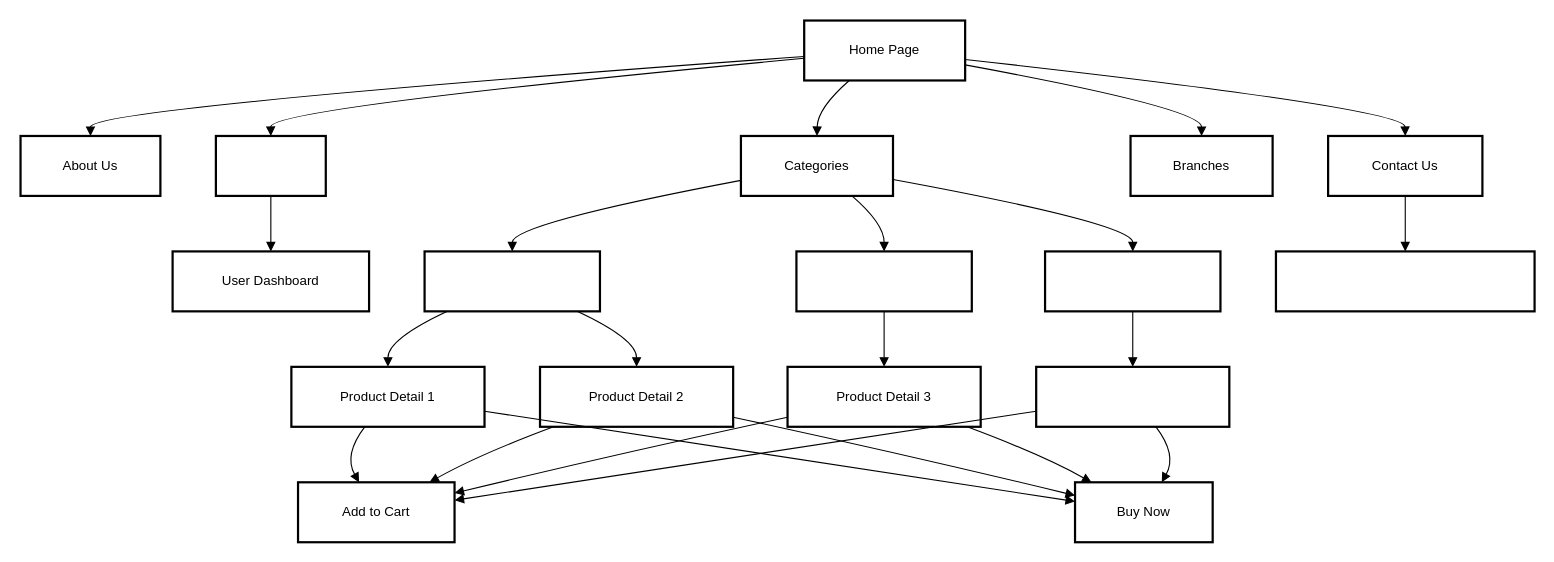
The diagram is 1554 pixels wide and 562 high, and some of its shapes have lost their labels. Each missing label, with the box of its shape:
Login: (214, 134, 326, 196)
Product Detail 4: (1035, 365, 1230, 427)
Product List 1: (423, 250, 601, 312)
Product List 2: (795, 250, 972, 312)
Product List 3: (1043, 250, 1221, 312)
Query Form Submission: (1274, 250, 1535, 312)
